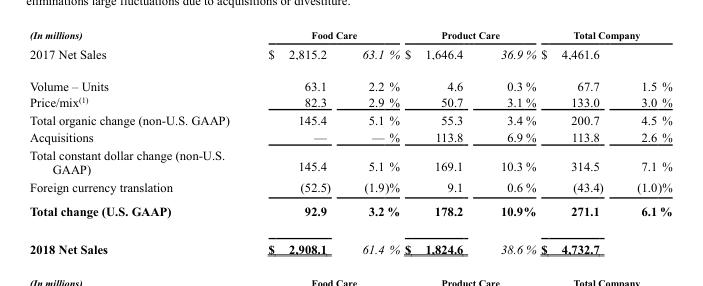table: (28, 28, 671, 255)
table column: (28, 28, 248, 255), (248, 28, 345, 255), (537, 28, 619, 255), (401, 28, 481, 255), (345, 28, 401, 255), (481, 28, 537, 255), (619, 28, 671, 255)
table column header: (28, 28, 671, 93)
table row: (28, 43, 671, 93), (28, 145, 671, 178), (28, 199, 671, 229), (28, 229, 671, 255), (28, 178, 671, 199), (28, 110, 671, 128), (28, 93, 671, 110), (28, 128, 671, 145), (28, 28, 671, 43)
table spanning cell: (28, 28, 248, 93), (248, 28, 401, 43), (401, 28, 537, 43), (537, 28, 671, 43)
